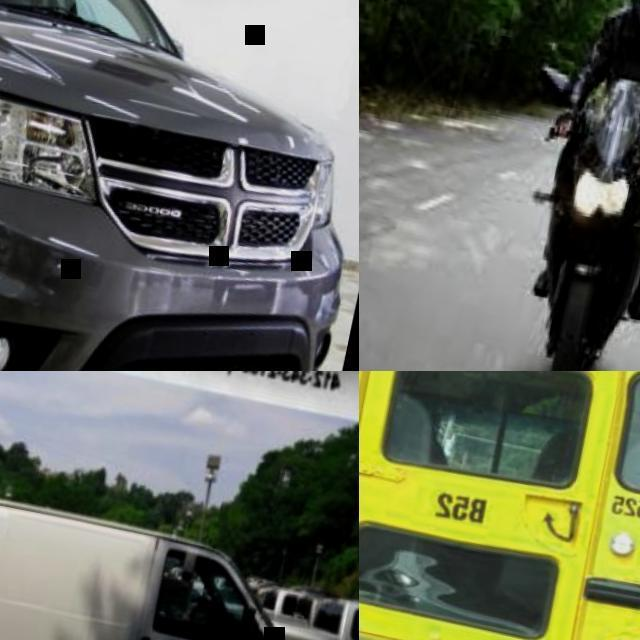car: (1, 0, 347, 409), (532, 70, 640, 366)
